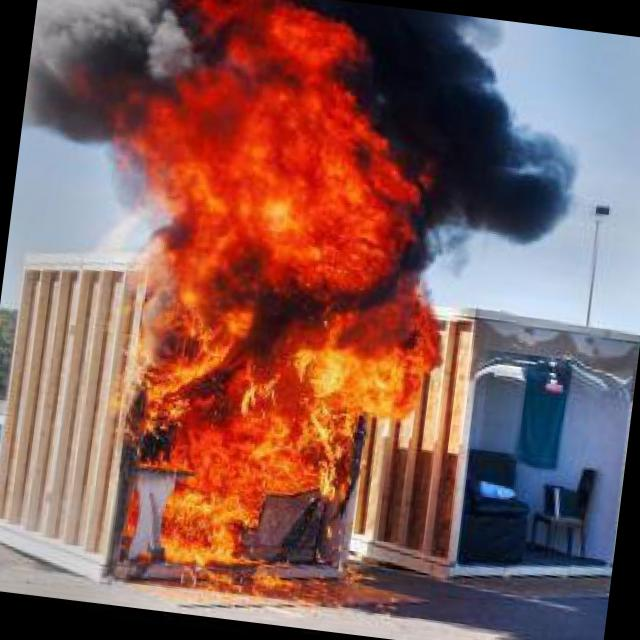fire: (93, 0, 478, 599)
smoke: (360, 7, 612, 282)
